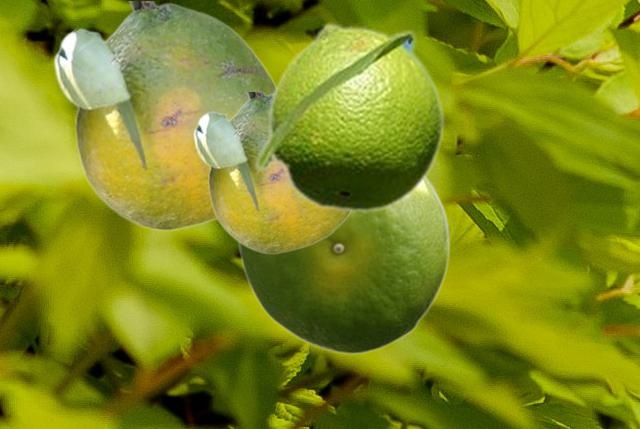dalandan: (52, 1, 276, 230), (237, 177, 449, 354), (253, 22, 445, 213), (192, 92, 350, 253)
